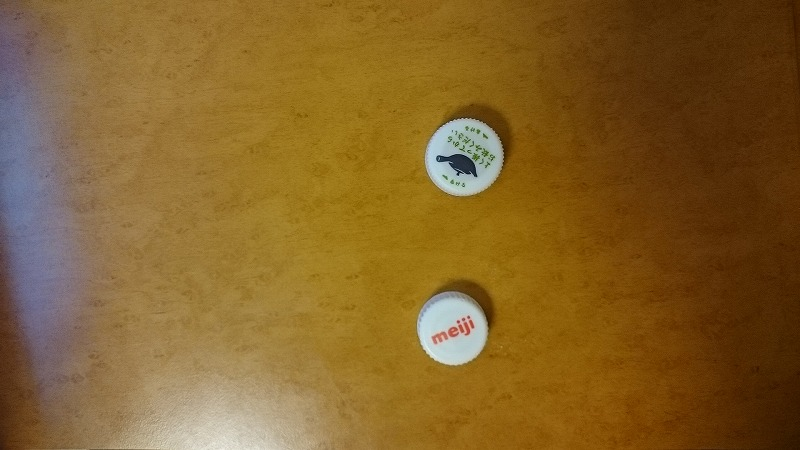A: (419, 111, 515, 205)
B: (410, 282, 499, 371)
